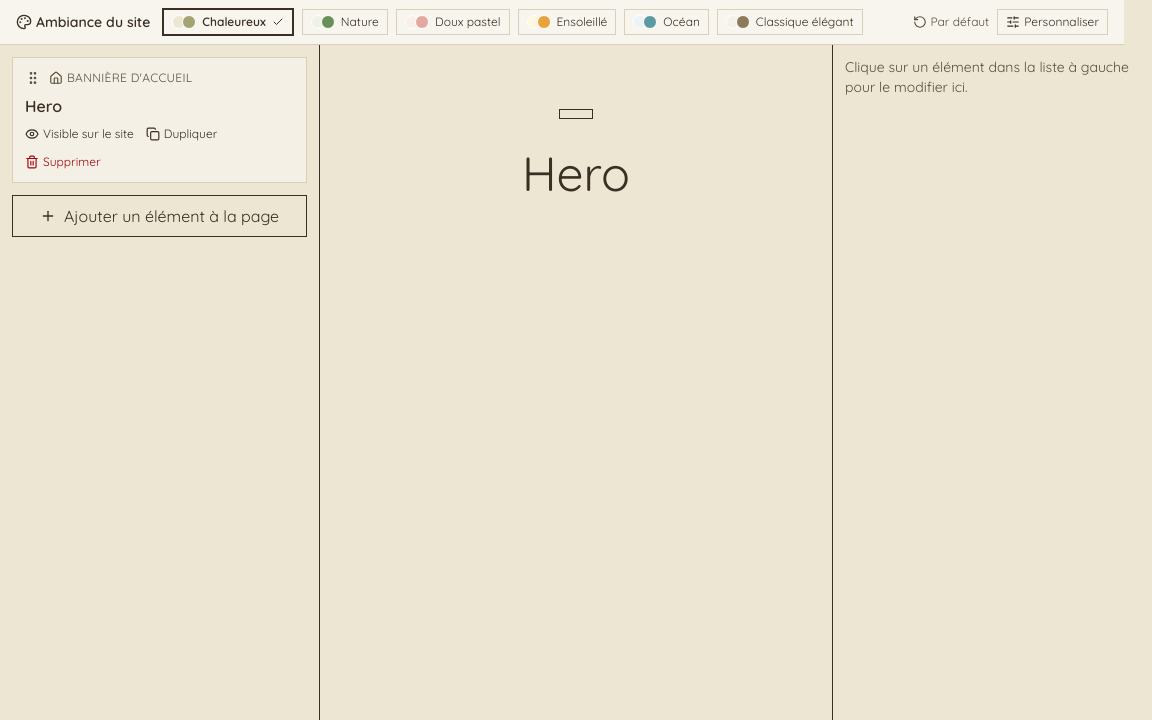
Test: AdminBuilder › selects a section by clicking it directly in the live preview
Check: the field labelled "Titre" is not shown
What coordinates should you click on to do the following:
click the button with aria-label "Modifier Bannière d'accueil"
I would click on:
 (576, 156)
Its box is [522,109,630,203].
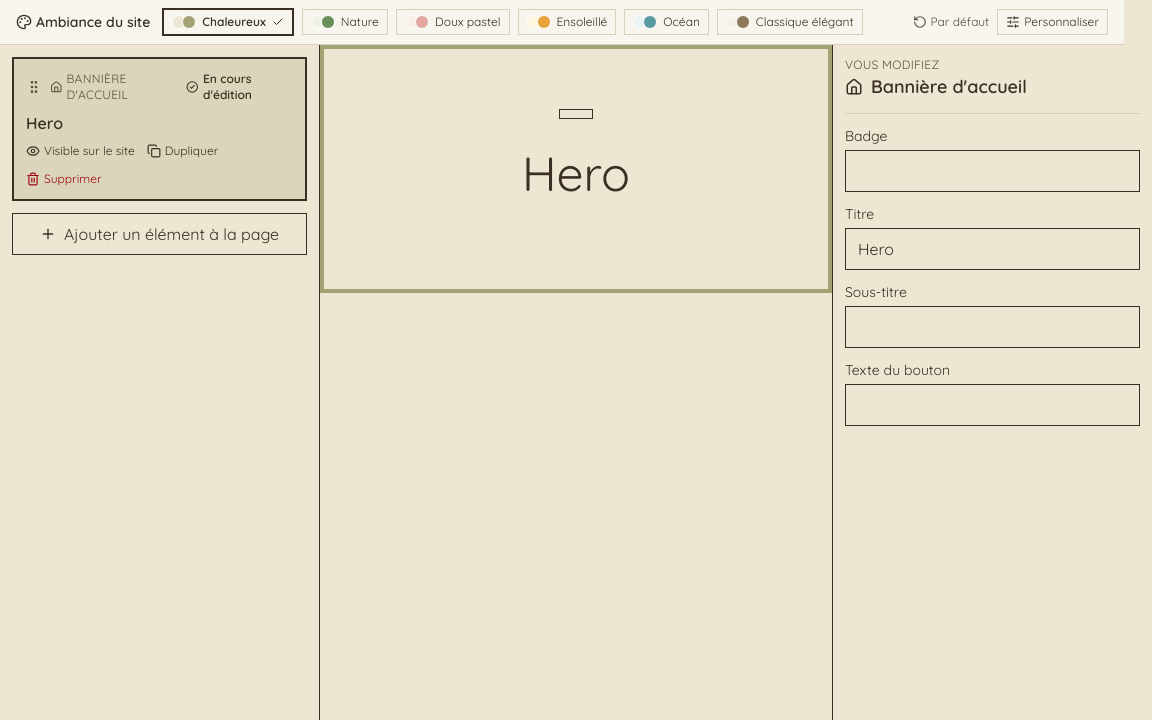
Check: the field labelled "Titre" is shown, box [845,228,1140,270]
